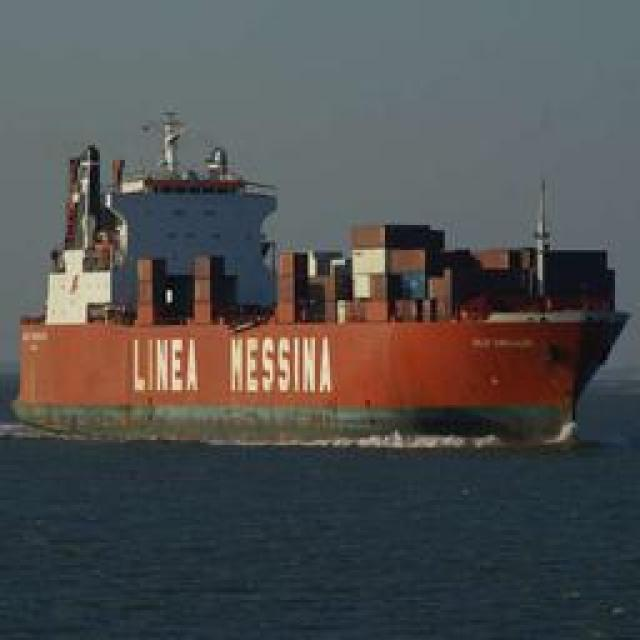CIV_Ship: (21, 120, 624, 452)
